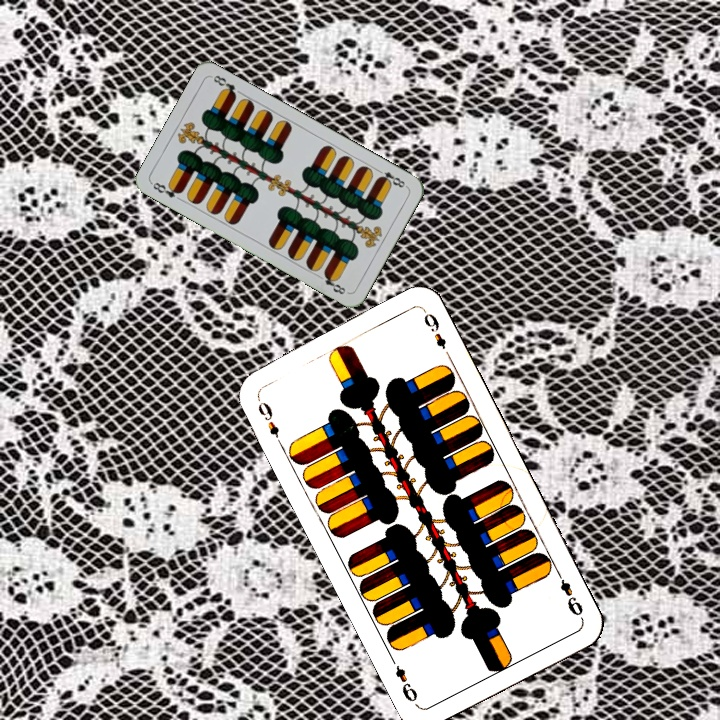E8: (372, 164, 409, 190), (148, 178, 185, 200)
E9: (552, 566, 586, 621), (253, 394, 286, 449)
